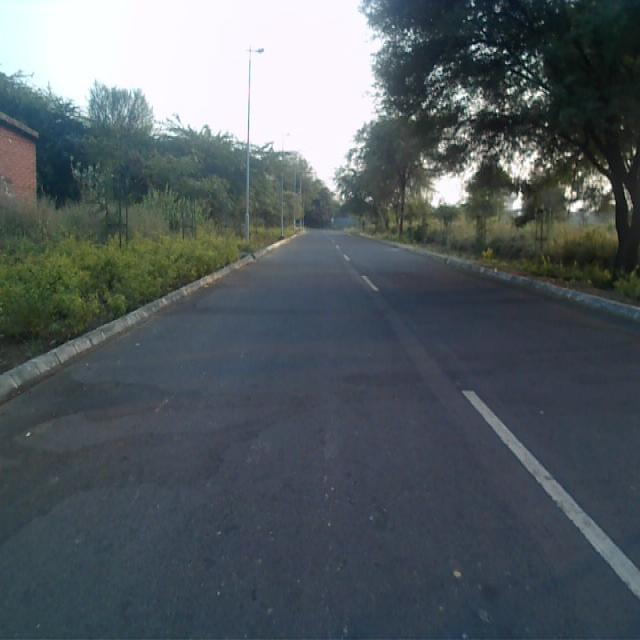lane: (0, 233, 640, 640)
